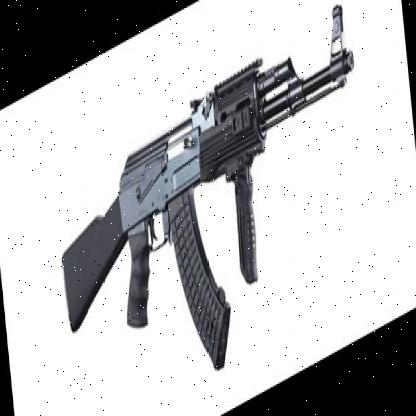rifle: (50, 5, 384, 416)
